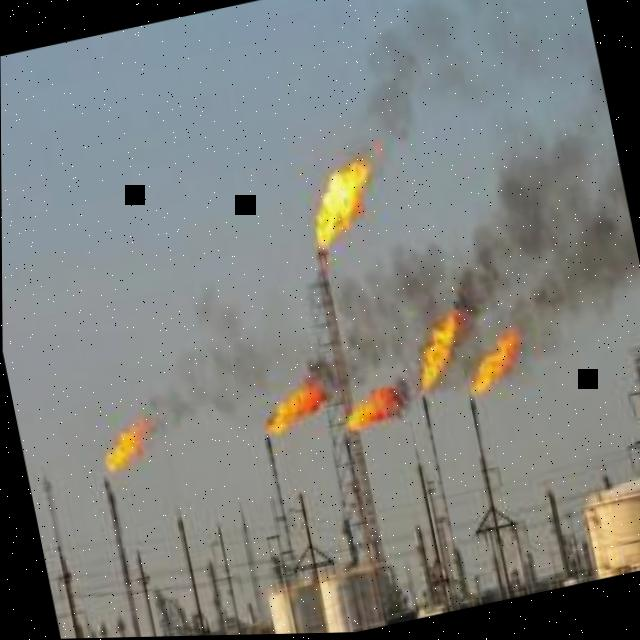fire: (313, 163, 368, 254), (470, 330, 519, 406), (266, 379, 328, 437), (421, 316, 458, 392), (346, 386, 400, 433), (101, 419, 145, 474)
smoke: (308, 0, 630, 417), (148, 285, 306, 450)
